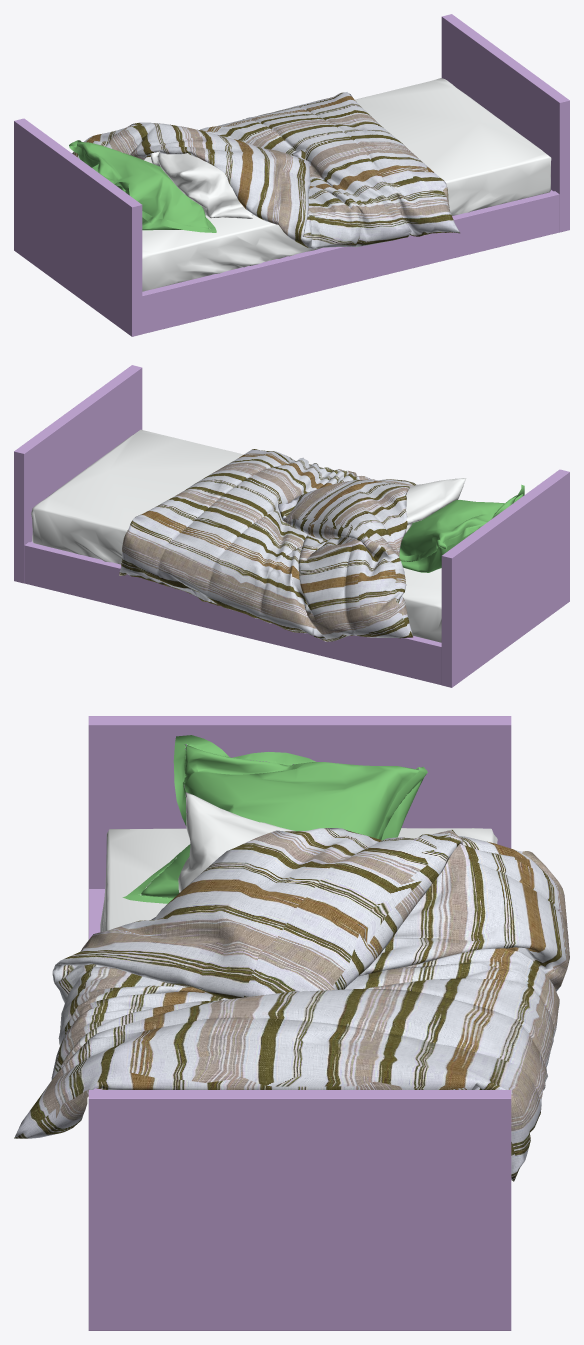
Rendered from main_bed2.fbx.
The picture shows the model from 3 angles, top to bottom: view 1: azimuth 30°, elevation 25°; view 2: azimuth 150°, elevation 25°; view 3: azimuth 270°, elevation 25°; orthographic projection. The views are drawn at different scales.
Visible parts, largest first — view 1: Bed, odealo, prostin, Pillows2, Pillows1; view 2: Bed, odealo, prostin, Pillows2, Pillows1; view 3: Bed, odealo, Pillows2, prostin, Pillows1.
Part boxes in pixels (bbox=[...]): Bed: bbox=[14, 14, 569, 336]; odealo: bbox=[72, 92, 459, 248]; prostin: bbox=[142, 78, 551, 291]; Pillows2: bbox=[69, 140, 216, 232]; Pillows1: bbox=[150, 152, 253, 218]; Bed: bbox=[14, 365, 569, 687]; odealo: bbox=[119, 449, 416, 641]; prostin: bbox=[31, 429, 441, 642]; Pillows2: bbox=[399, 484, 524, 572]; Pillows1: bbox=[324, 478, 466, 540]; Bed: bbox=[88, 716, 511, 1330]; odealo: bbox=[14, 828, 569, 1181]; Pillows2: bbox=[122, 735, 427, 903]; prostin: bbox=[100, 828, 497, 1089]; Pillows1: bbox=[178, 792, 295, 892].
Bounding box in the file's own units: 283 × 80.08 × 174.
